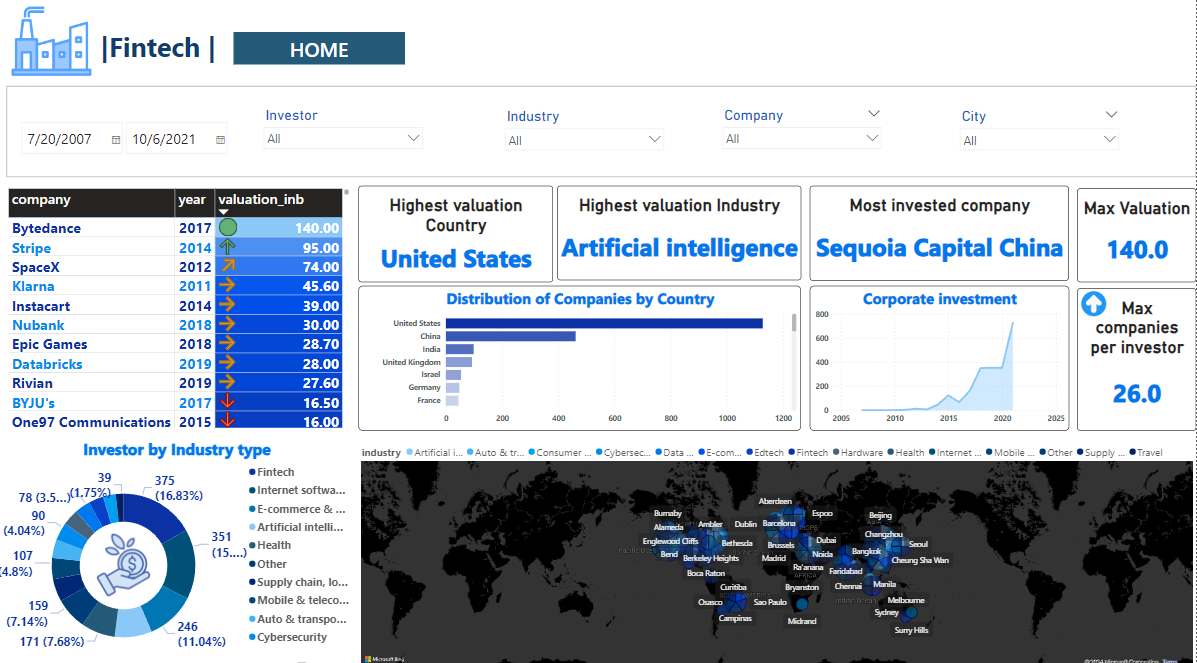

The dashboard page shown, as its layout file describes it:
{"tool":"powerbi","page":{"name":"Home","canvas":[1920,1080],"ordinal":0},"visuals":[{"type":"textbox","box":[150.3,43.2,300.5,78.2],"z":0},{"type":"shape","box":[15,141.7,1905,146.7],"z":1000},{"type":"slicer","fields":{"Values":["unicorn.city"]},"box":[1532.9,172.4,275,89.8],"z":2000},{"type":"slicer","fields":{"Values":["unicorn.company"]},"box":[1151.5,170.5,275,89.8],"z":3000},{"type":"slicer","fields":{"Values":["unicorn.industry"]},"box":[803.1,172.4,275,89.8],"z":4000},{"type":"slicer","fields":{"Values":["unicorn.date_joined"]},"box":[28.3,190,351.7,70],"z":5000},{"type":"slicer","fields":{"Values":["unicorn.investor"]},"box":[418.1,170.5,275,89.8],"z":6000},{"type":"map","fields":{"Size":["Count(fintech.type)"],"Category":["unicorn.city"],"Series":["unicorn.industry"]},"box":[580,706.7,1340,373.3],"z":7000},{"type":"tableEx","fields":{"Values":["unicorn.company","unicorn.year","unicorn.valuation_inb"]},"box":[14,302,556,392],"z":8000},{"type":"donutChart","title":"Investor by Industry type","fields":{"Category":["unicorn.industry"],"Y":["CountNonNull(unicorn.investor)"]},"box":[0,705.9,579.4,374.1],"z":9000},{"type":"card","title":"Highest valuation Country","fields":{"Values":["Result_2.First country max per total_valuation"]},"box":[580,302.7,310.9,154.5],"z":10000},{"type":"card","title":"Highest valuation Industry","fields":{"Values":["Result_1.Industry with Highest Avg Valuation"]},"box":[898.6,302.9,390,151.4],"z":11000},{"type":"card","title":"Most invested company","fields":{"Values":["investors.Industry with Highest Invest"]},"box":[1301.9,302.5,414.4,152.2],"z":12000},{"type":"clusteredBarChart","title":"Distribution of Companies by Country","fields":{"Category":["Result_7.country"],"Y":["Sum(Result_7.number_of_companies)"]},"box":[580,461.7,708.3,231.7],"z":13000},{"type":"areaChart","title":"Corporate investment","fields":{"Category":["unicorn.year"],"Y":["CountNonNull(unicorn.company)"]},"box":[1301.7,461.7,415,231.7],"z":14000},{"type":"card","title":"Max Valuation","fields":{"Values":["Max(unicorn.valuation_inb)"]},"box":[1730,305,190,150],"z":15000},{"type":"card","title":"Max companies per  investor","fields":{"Values":["Max(investors.total)"]},"box":[1730,465,190,228.3],"z":16000},{"type":"actionButton","box":[380,56,274,52],"z":17000},{"type":"image","box":[14,0,150,142],"z":18000},{"type":"image","box":[142,854,124,110],"z":19000},{"type":"image","box":[1730,466,52,50],"z":20000}]}

Visuals, with their boxes in screenshot pixels (x1, y1, x2, y2), scaled from the page's 1920x1080 canvas onto the 1197x663 screenshot:
textbox: bbox=[94, 27, 281, 75]
shape: bbox=[9, 87, 1196, 177]
slicer - unicorn.city: bbox=[956, 106, 1127, 161]
slicer - unicorn.company: bbox=[718, 105, 889, 160]
slicer - unicorn.industry: bbox=[501, 106, 672, 161]
slicer - unicorn.date_joined: bbox=[18, 117, 237, 160]
slicer - unicorn.investor: bbox=[261, 105, 432, 160]
map - Count(fintech.type) x unicorn.city: bbox=[362, 434, 1196, 662]
tableEx - unicorn.company x unicorn.year: bbox=[9, 185, 355, 426]
"Investor by Industry type" donutChart: bbox=[0, 433, 361, 662]
"Highest valuation Country" card: bbox=[362, 186, 555, 281]
"Highest valuation Industry" card: bbox=[560, 186, 803, 279]
"Most invested company" card: bbox=[812, 186, 1070, 279]
"Distribution of Companies by Country" clusteredBarChart: bbox=[362, 283, 803, 426]
"Corporate investment" areaChart: bbox=[812, 283, 1070, 426]
"Max Valuation" card: bbox=[1079, 187, 1196, 279]
"Max companies per  investor" card: bbox=[1079, 285, 1196, 426]
actionButton: bbox=[237, 34, 408, 66]
image: bbox=[9, 0, 102, 87]
image: bbox=[89, 524, 166, 592]
image: bbox=[1079, 286, 1111, 317]
